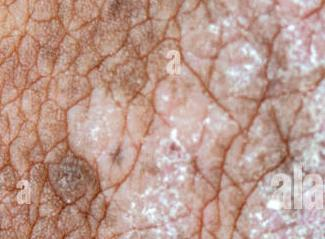plaque psoriasis: (40, 0, 325, 239)
